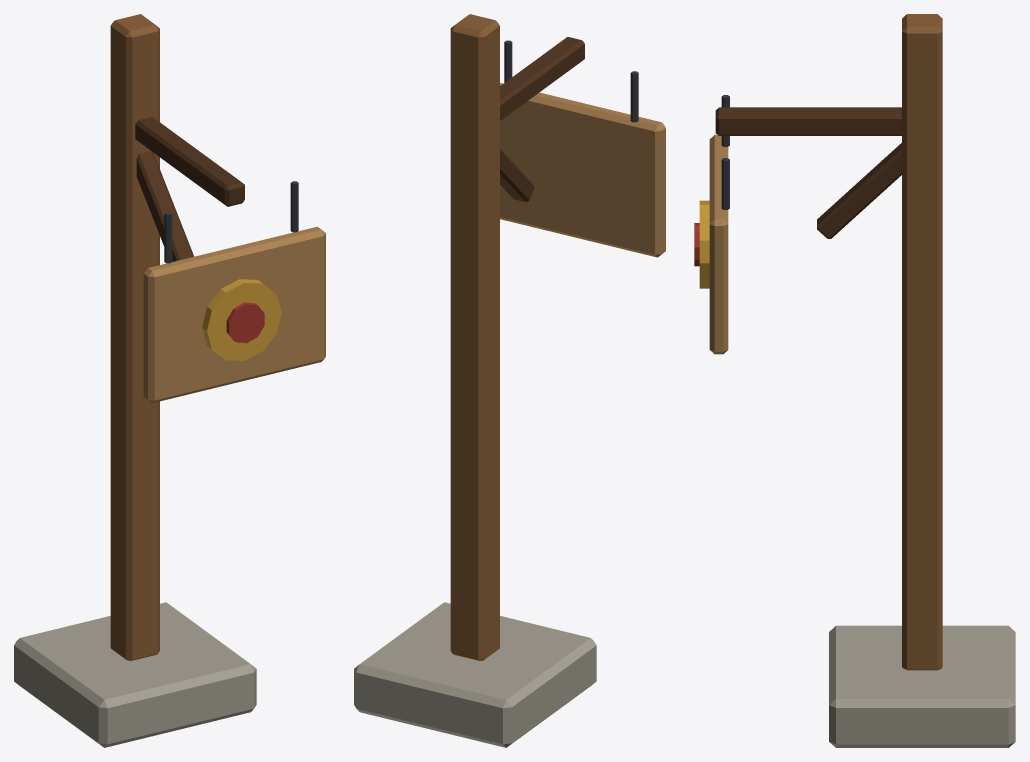
File: sign.fbx
The picture shows the model from 3 angles, left to right: view 1: azimuth 30°, elevation 25°; view 2: azimuth 150°, elevation 25°; view 3: azimuth 270°, elevation 25°; orthographic projection. The views are drawn at different scales.
Parts seen in each view (by area): view 1: sign; view 2: sign; view 3: sign.
Boxes of the visible parts, box(x1,y1,x2,y2) form: sign: box(14, 14, 325, 747); sign: box(354, 14, 665, 747); sign: box(694, 14, 1015, 747).
Bounding box in the file's own units: 62 × 225 × 94.75.
